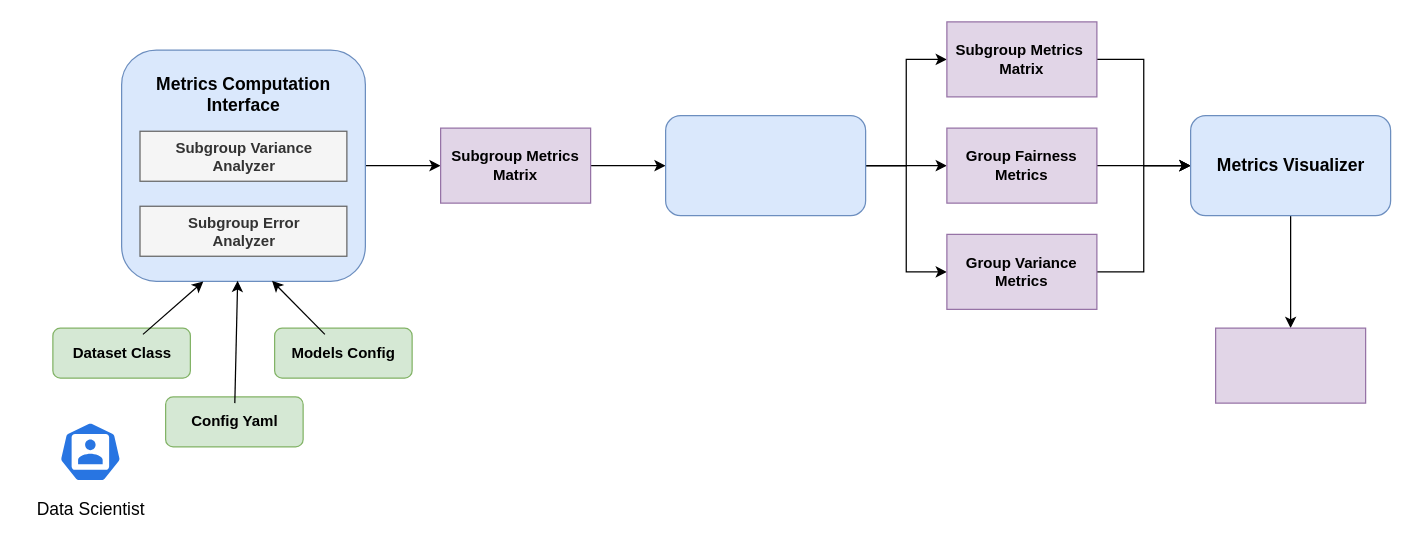
This 1413x550 diagram has some shape labels left out. The shapes that lost their labels are listed below. From the top down, each one's box as (x1, y1, x2, y2) in pixels, then its label:
(664, 114, 866, 216): Metrics Composer
(1214, 327, 1366, 403): Final Report & Visualizations
